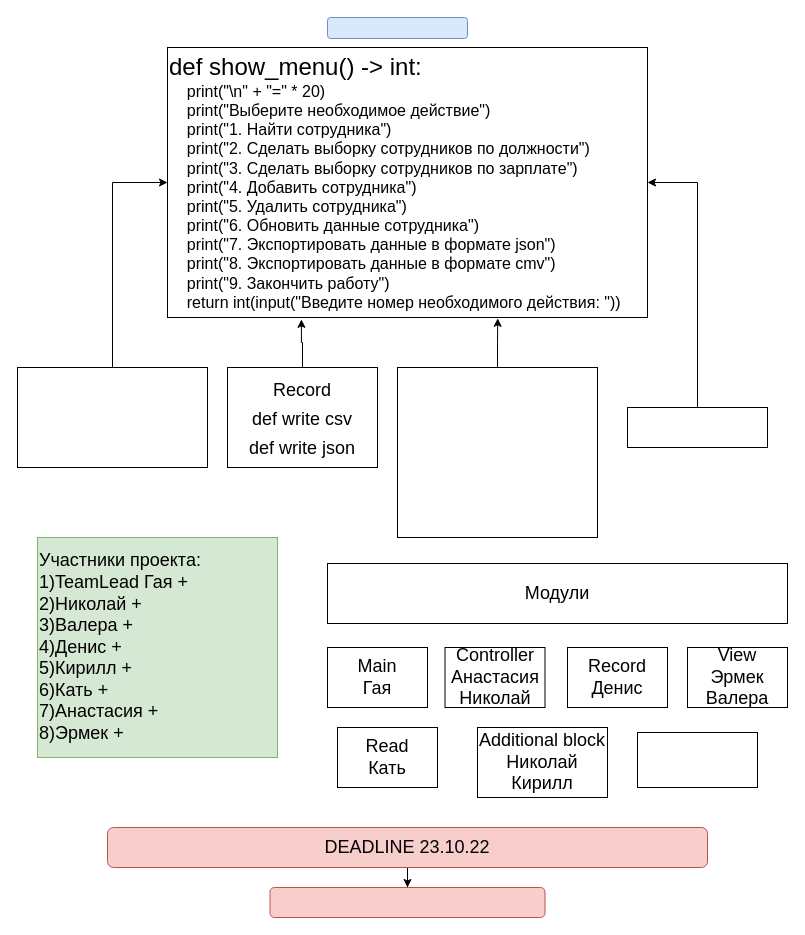
Some shapes in this 805 by 935 pixel diagram are drawn without their labels. Here are the shapes that lost their labels. From the top down, the centre of each, then its label:
(x=397, y=27): home_work_8
(x=112, y=417): Read def Read csv def Read json
(x=697, y=427): Search
(x=497, y=452): Employe's def find employe def add employe def del employe def change employe
(x=697, y=760): Readme
(x=407, y=902): FINAD DEADLINE 24.10.22
